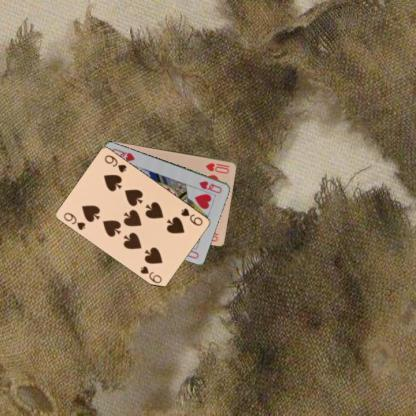10h: (203, 160, 231, 175)
9s: (61, 209, 87, 232), (178, 205, 204, 227)
Qh: (196, 178, 223, 195)
